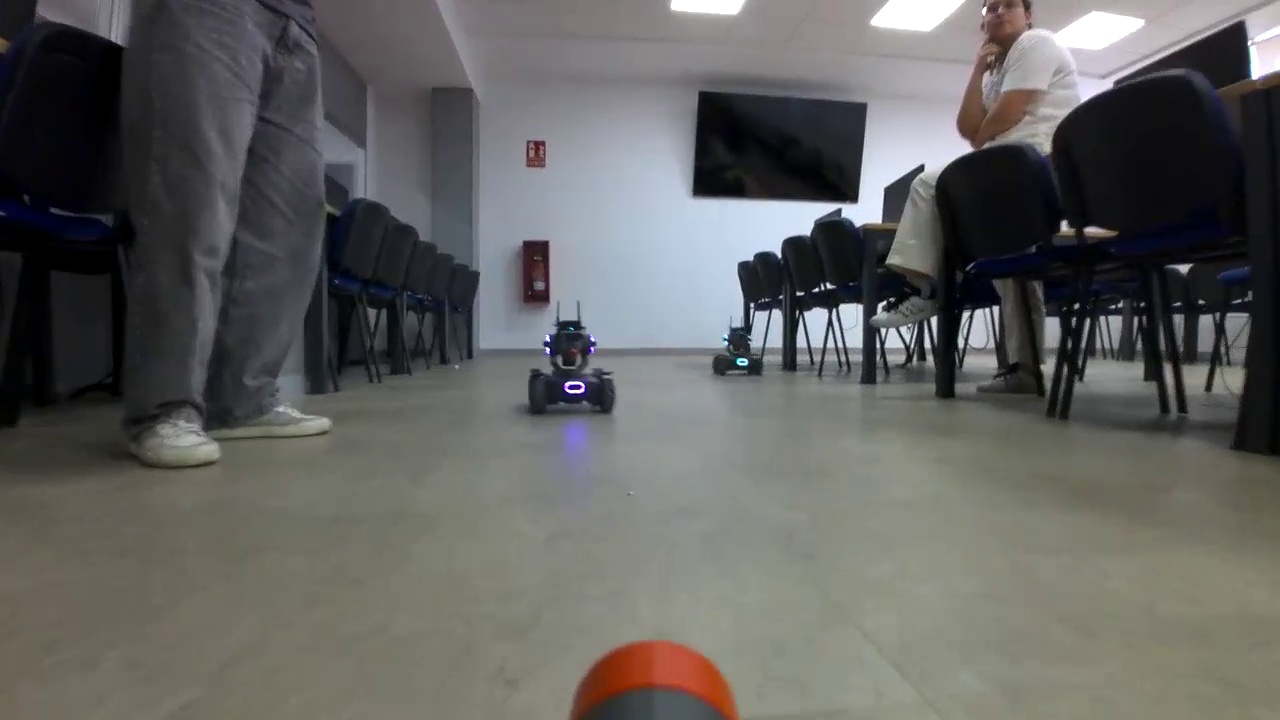robot: (527, 316, 617, 415), (712, 321, 768, 380)
